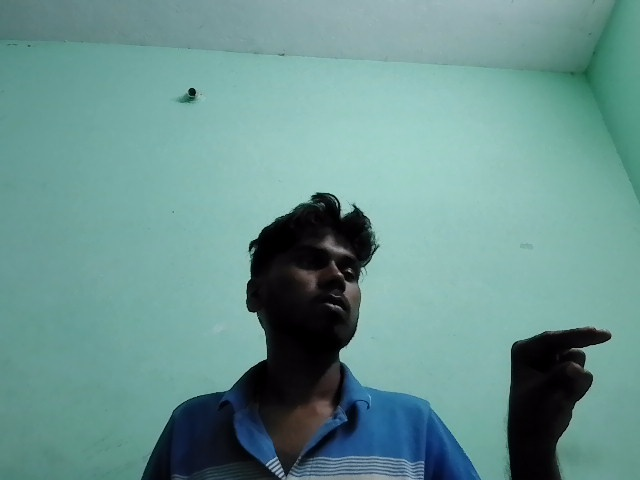No: (469, 301, 632, 449)
